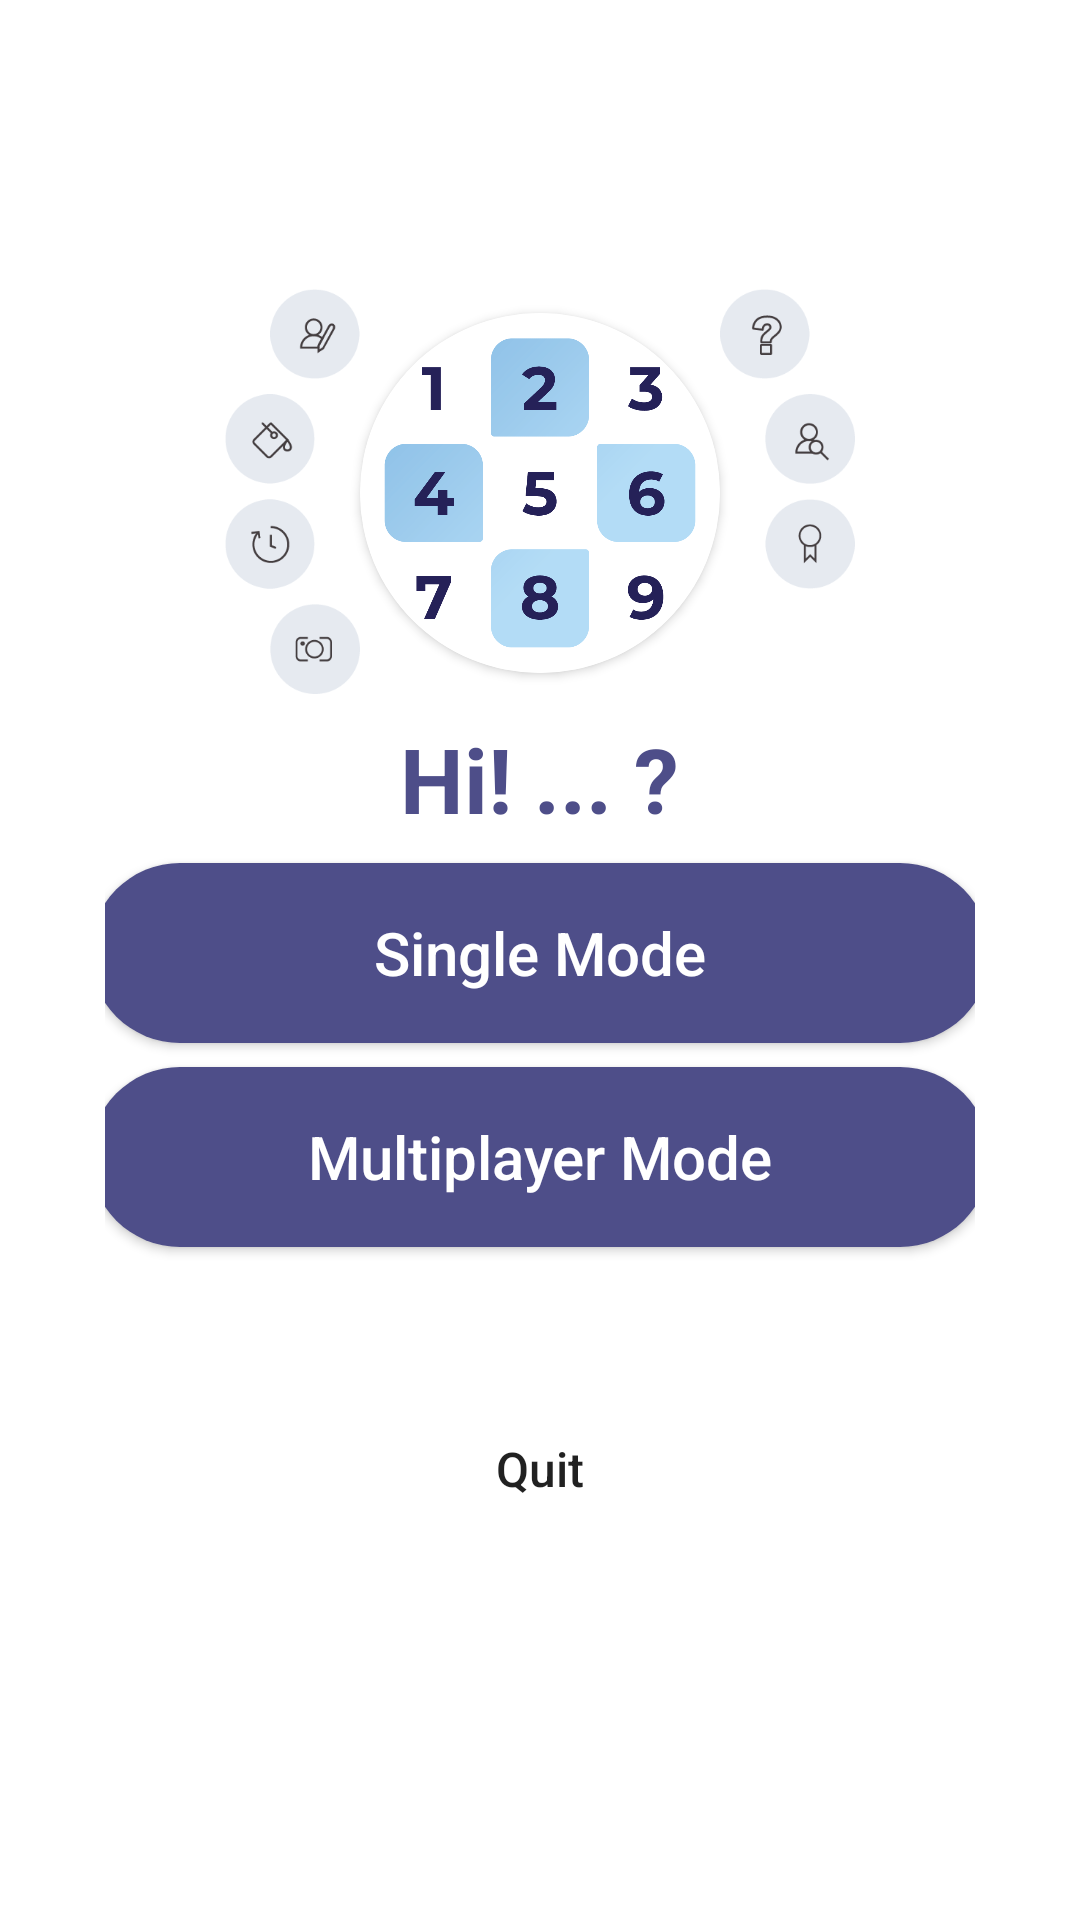

Where icons sit on this 1080 x 1920 app screen, as (x1=x1, y1=y1, x2=x2, y2=y2):
mavatar: (x1=271, y1=605, x2=360, y2=694)
mcolor: (x1=226, y1=394, x2=314, y2=483)
mhelp: (x1=720, y1=290, x2=809, y2=378)
mhistory: (x1=226, y1=500, x2=314, y2=588)
mname: (x1=270, y1=290, x2=359, y2=378)
mrank: (x1=766, y1=500, x2=855, y2=588)
msearch: (x1=766, y1=394, x2=855, y2=483)
